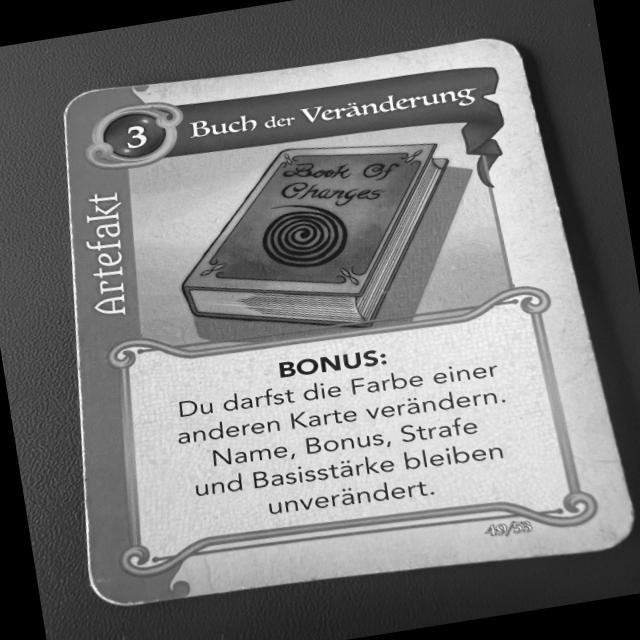Book Of Changes: (59, 32, 640, 612)
